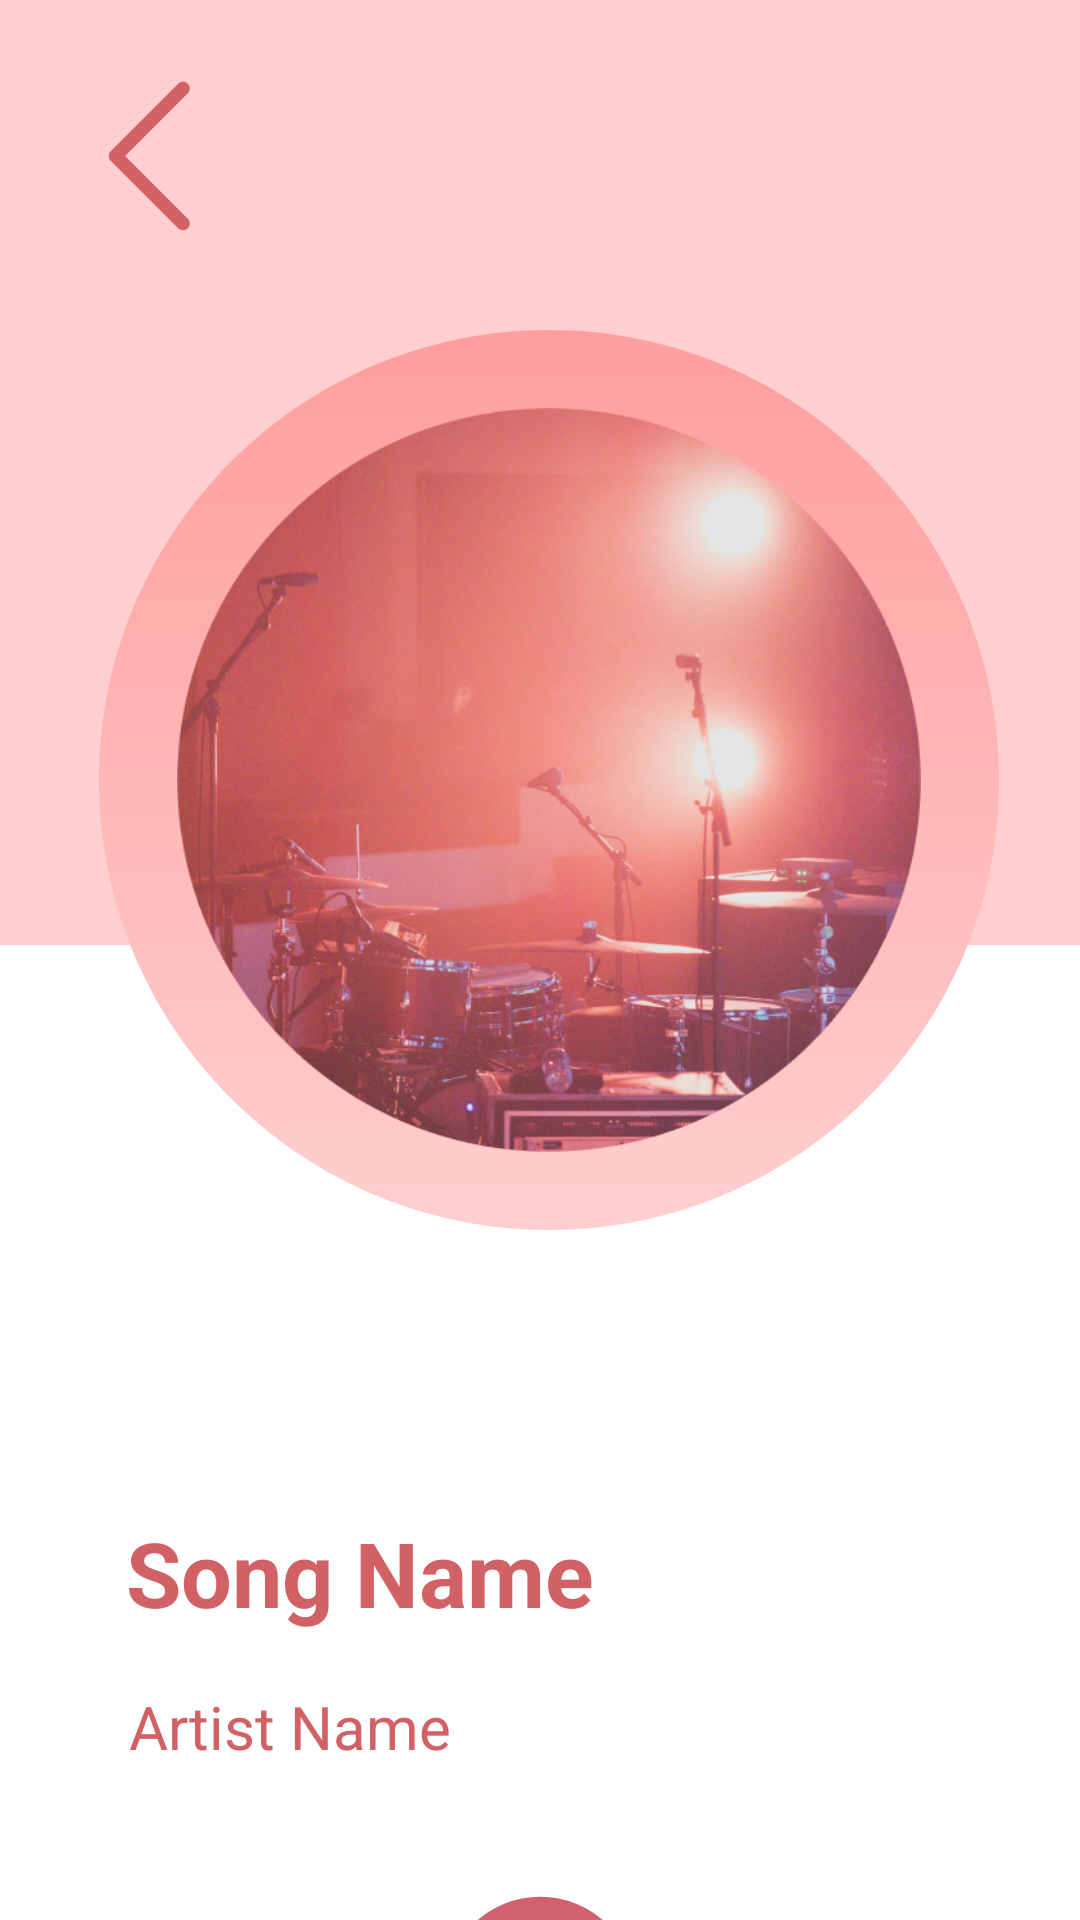

Screen size 1080*1920. Icon name, then its center in pixels as (x=x, y=y):
caretleft: (x=149, y=155)
